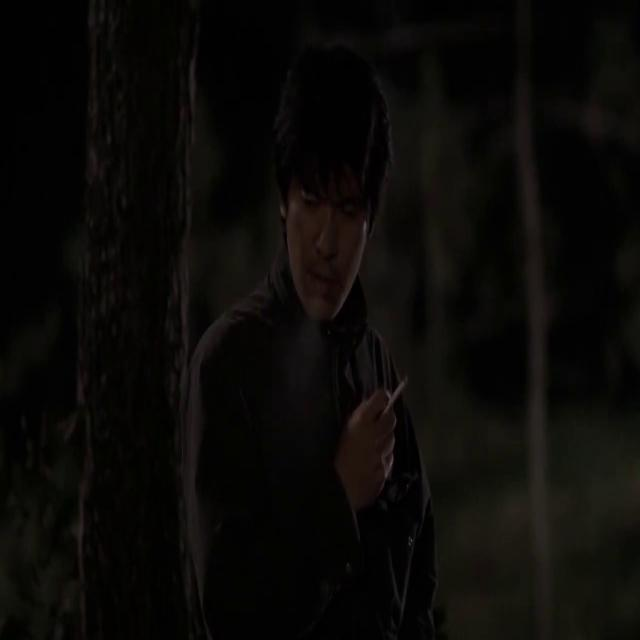Smooking: (384, 354, 412, 418)
